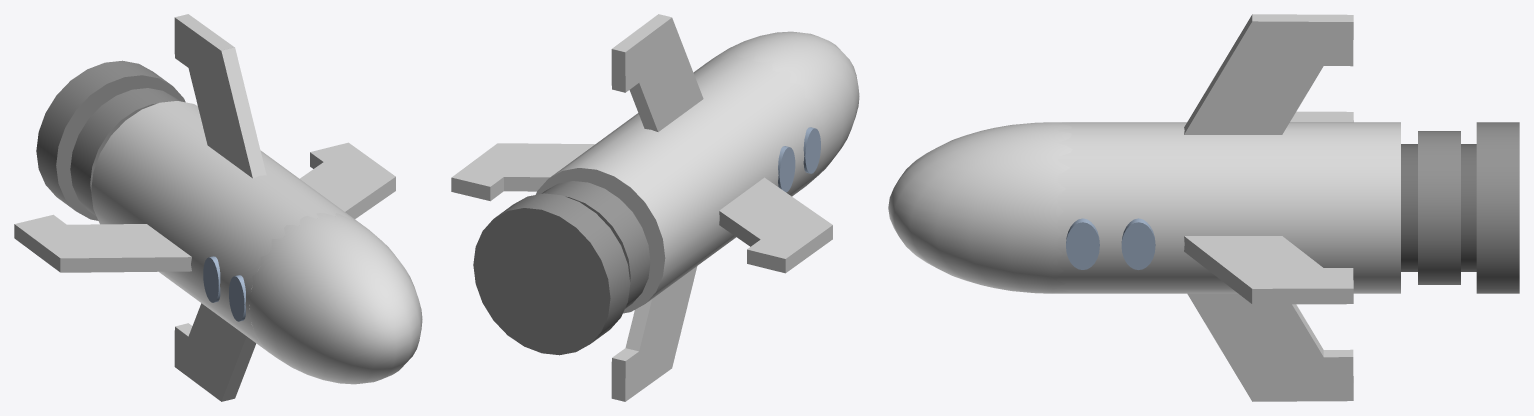
Rendered from Spaceship.gltf.
3 views of the same model, side by side, from view 1: azimuth 30°, elevation 25°; view 2: azimuth 150°, elevation 25°; view 3: azimuth 270°, elevation 25° (orthographic). The views are drawn at different scales.
Visible parts, largest first — view 1: Cylinder, Sphere, Merged_Meshes1, Merged_Meshes2, Cylinder4, Merged_Meshes3, Merged_Meshes, Cylinder2, Cylinder8, Cylinder7; view 2: Cylinder, Cylinder4, Sphere, Merged_Meshes1, Merged_Meshes2, Merged_Meshes3, Merged_Meshes, Cylinder2, Cylinder7, Cylinder8; view 3: Cylinder, Sphere, Merged_Meshes1, Merged_Meshes3, Merged_Meshes, Cylinder4, Cylinder2, Cylinder1, Cylinder3, Cylinder6, Cylinder5, Merged_Meshes2.
Boxes of the visible parts, x1,y1,x2,y2 form: Cylinder: (91, 101, 364, 352); Sphere: (248, 213, 422, 384); Merged_Meshes1: (174, 14, 266, 178); Merged_Meshes2: (14, 214, 191, 272); Cylinder4: (36, 60, 185, 220); Merged_Meshes3: (174, 303, 256, 401); Merged_Meshes: (300, 142, 395, 218); Cylinder2: (70, 88, 179, 216); Cylinder8: (203, 256, 220, 302); Cylinder7: (229, 275, 245, 321); Cylinder: (535, 52, 823, 313); Cylinder4: (473, 193, 630, 355); Sphere: (708, 31, 859, 187); Merged_Meshes1: (611, 14, 703, 131); Merged_Meshes2: (719, 177, 832, 273); Merged_Meshes3: (611, 266, 697, 401); Merged_Meshes: (451, 143, 594, 201); Cylinder2: (541, 181, 650, 308); Cylinder7: (803, 127, 820, 173); Cylinder8: (778, 146, 795, 192); Cylinder: (1057, 122, 1400, 293); Sphere: (888, 122, 1072, 293); Merged_Meshes1: (1184, 14, 1353, 134); Merged_Meshes3: (1187, 293, 1353, 401); Merged_Meshes: (1184, 236, 1353, 304); Cylinder4: (1476, 122, 1519, 293); Cylinder2: (1418, 131, 1460, 284); Cylinder1: (1401, 144, 1417, 271); Cylinder3: (1461, 144, 1476, 271); Cylinder6: (1121, 218, 1155, 269); Cylinder5: (1066, 218, 1099, 269); Merged_Meshes2: (1290, 111, 1353, 122).
Size of the model in its own units: 4.89 by 4.89 by 7.35.
